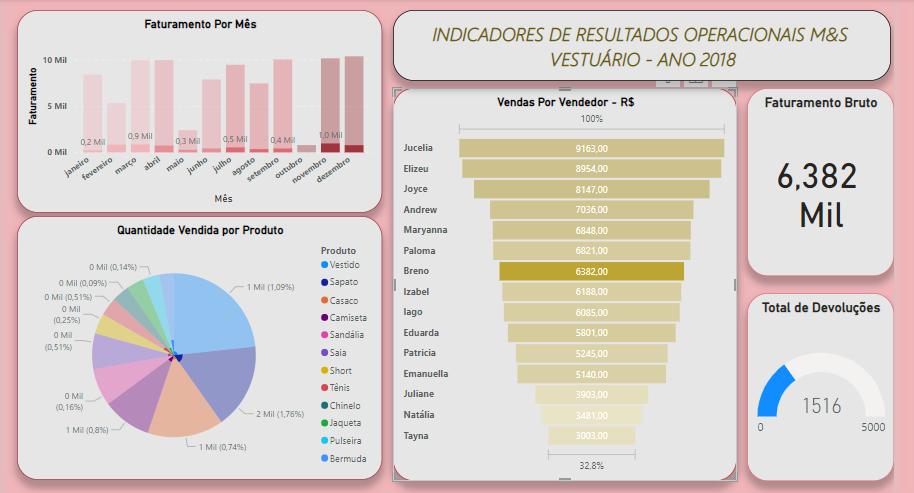

This screenshot's page, from the dashboard's own definition file:
{"tool":"powerbi","page":{"name":"Página 1","canvas":[1280,720],"ordinal":0},"visuals":[{"type":"clusteredColumnChart","title":"Faturamento Por Mês","fields":{"Category":["DadosProdutos.Data da Venda.Variation.Hierarquia de datas.Mês"],"Y":["Sum(DadosProdutos.Quantidade Vendida)"]},"box":[17,15.7,526.3,291.9],"z":0},{"type":"pieChart","title":"Quantidade Vendida por Produto","fields":{"Y":["Sum(DadosProdutos.Quantidade Vendida)"],"Category":["DadosProdutos.Produto"]},"box":[17,312.9,526.3,379.6],"z":1000},{"type":"funnel","title":"Vendas Por Vendedor - R$","fields":{"Category":["DadosProdutos.Nome"],"Y":["Sum(DadosProdutos.Quantidade Vendida)"]},"box":[558.8,128,495.5,565.7],"z":2000},{"type":"textbox","box":[558.7,15.8,717.1,102.2],"z":3000},{"type":"gauge","title":"Total de Devoluções","fields":{"Y":["Sum(DadosDevolução.Quantidade Devolvida)"]},"box":[1068.5,423.4,211.7,270.7],"z":4000},{"type":"card","title":"Faturamento Bruto","fields":{"Values":["Sum(DadosProdutos.Quantidade Vendida)"]},"box":[1068.5,128.2,211.7,270.7],"z":5000}]}

Visuals, with their boxes in screenshot pixels (x1, y1, x2, y2):
"Faturamento Por Mês" clusteredColumnChart: bbox(10, 6, 378, 210)
"Quantidade Vendida por Produto" pieChart: bbox(10, 214, 378, 480)
"Vendas Por Vendedor - R$" funnel: bbox(389, 85, 735, 481)
textbox: bbox(389, 6, 890, 78)
"Total de Devoluções" gauge: bbox(745, 291, 893, 481)
"Faturamento Bruto" card: bbox(745, 85, 893, 274)
